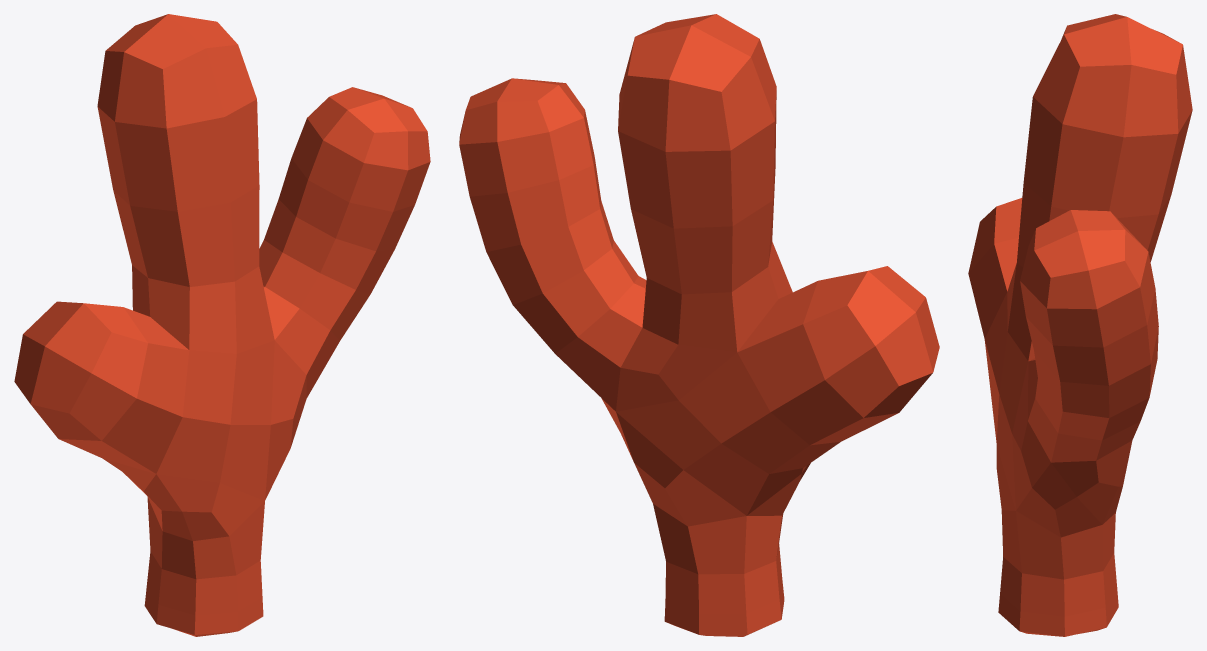
Rendered from Cactus.glb.
3 views of the same model, side by side, from view 1: azimuth 30°, elevation 25°; view 2: azimuth 150°, elevation 25°; view 3: azimuth 270°, elevation 25° (orthographic). The views are drawn at different scales.
Parts seen in each view (by area): view 1: cactus; view 2: cactus; view 3: cactus.
Part boxes in pixels (x1,y1,x2,y2): cactus: (14,14,430,636); cactus: (459,14,939,636); cactus: (968,14,1192,636).
Size of the model in its own units: 1.55 by 2.09 by 0.7064.
